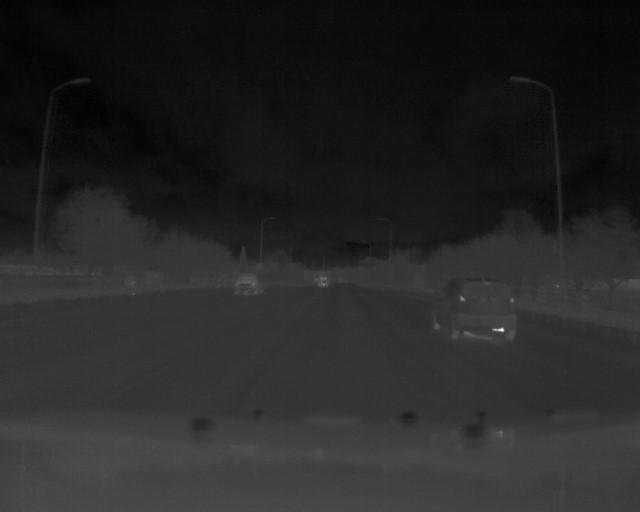car: (430, 280, 525, 348), (230, 271, 262, 295)
